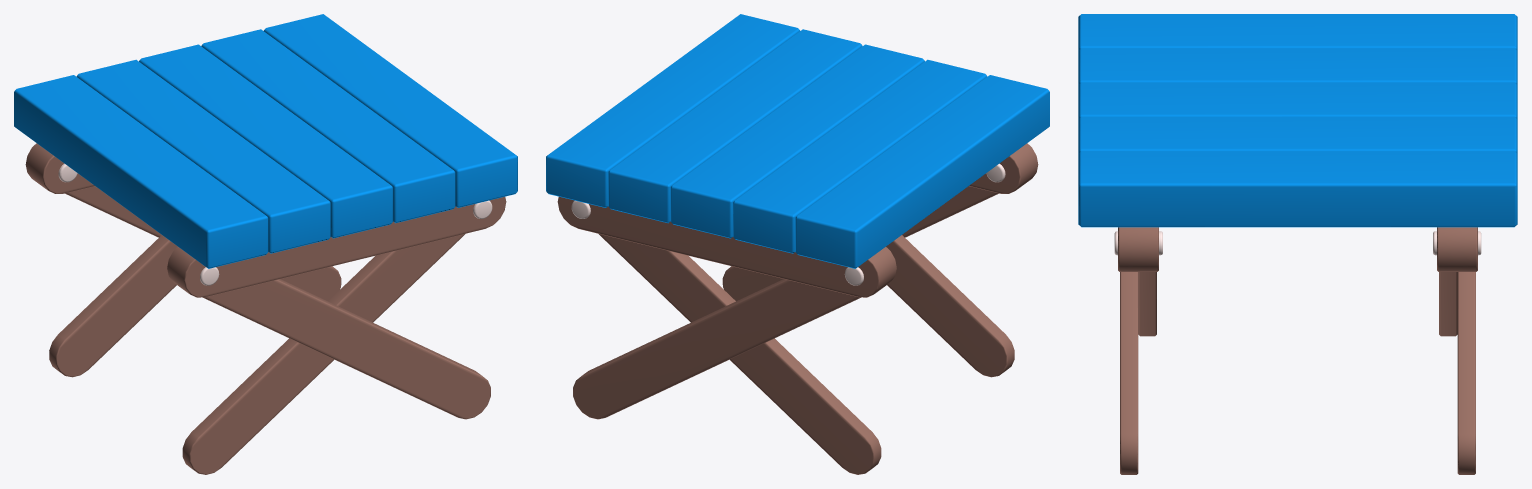
The model's file is Store_18_Table_1.glb.
3 views of the same model, side by side, from view 1: azimuth 30°, elevation 25°; view 2: azimuth 150°, elevation 25°; view 3: azimuth 270°, elevation 25° (orthographic). The views are drawn at different scales.
Parts seen in each view (by area): view 1: Store_18_Table_1; view 2: Store_18_Table_1; view 3: Store_18_Table_1.
Boxes of the visible parts, x1,y1,x2,y2 form: Store_18_Table_1: (14, 14, 517, 474); Store_18_Table_1: (546, 14, 1049, 474); Store_18_Table_1: (1078, 14, 1517, 474).
Bounding box in the file's own units: 0.9862 × 0.7898 × 1.03.
Materials: 1 (1 with a texture image).
